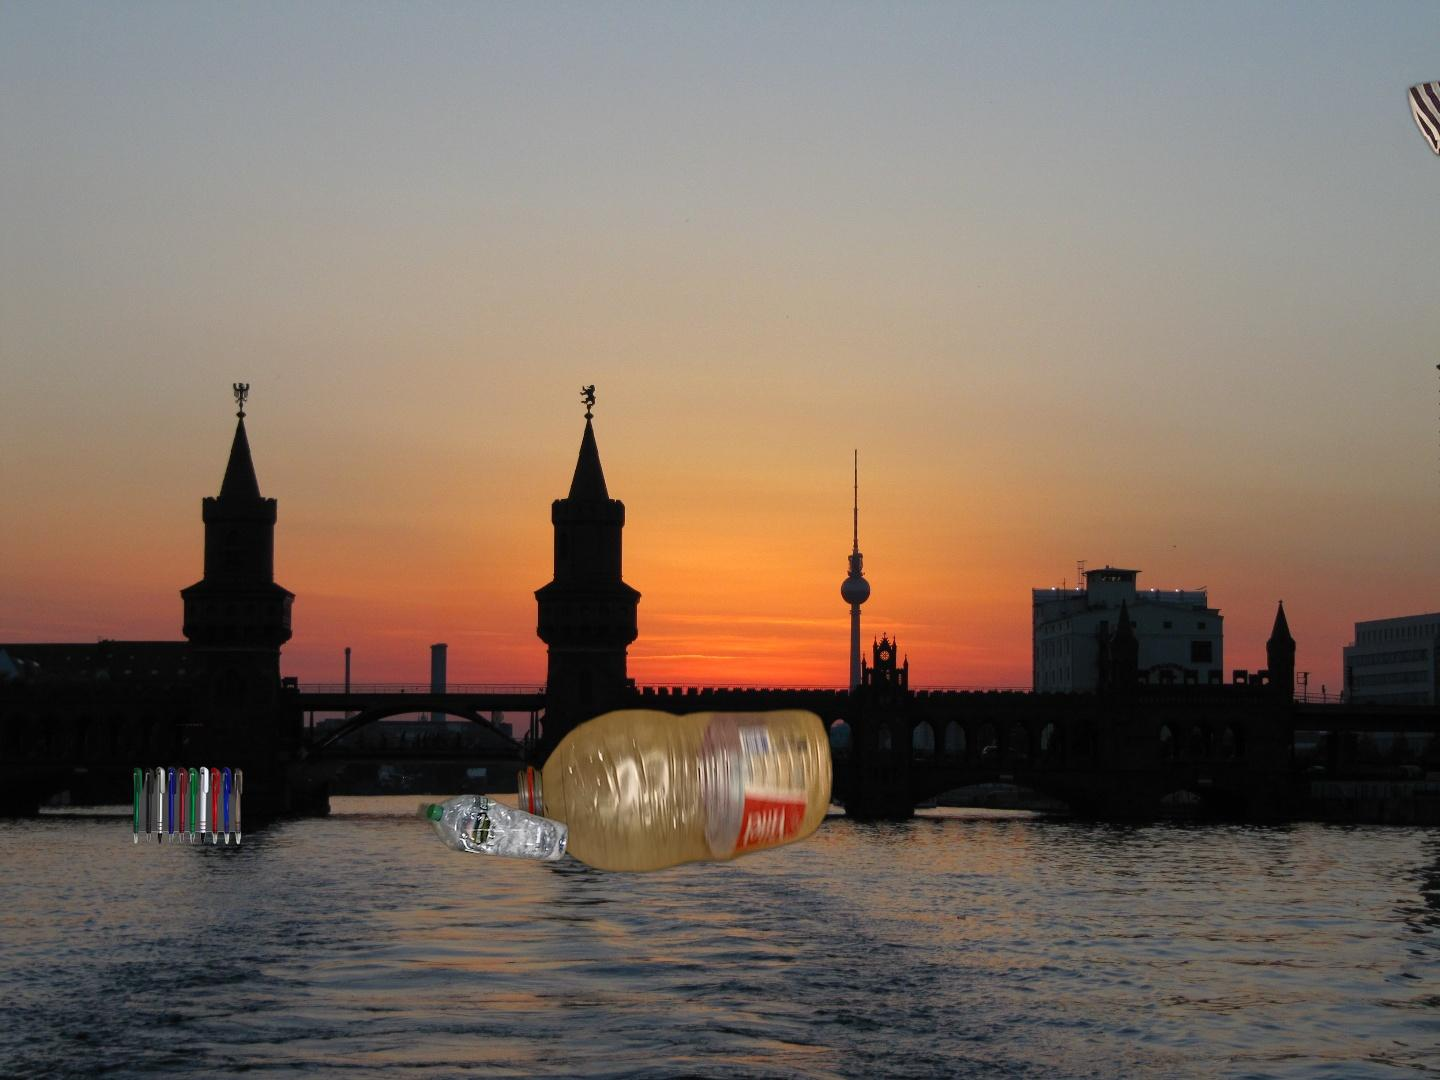clothes: (1394, 11, 1440, 411)
penholder: (122, 715, 248, 847)
plastic-bottles: (515, 703, 833, 877), (413, 791, 574, 863)
trash: (1345, 1078, 1440, 1080)
